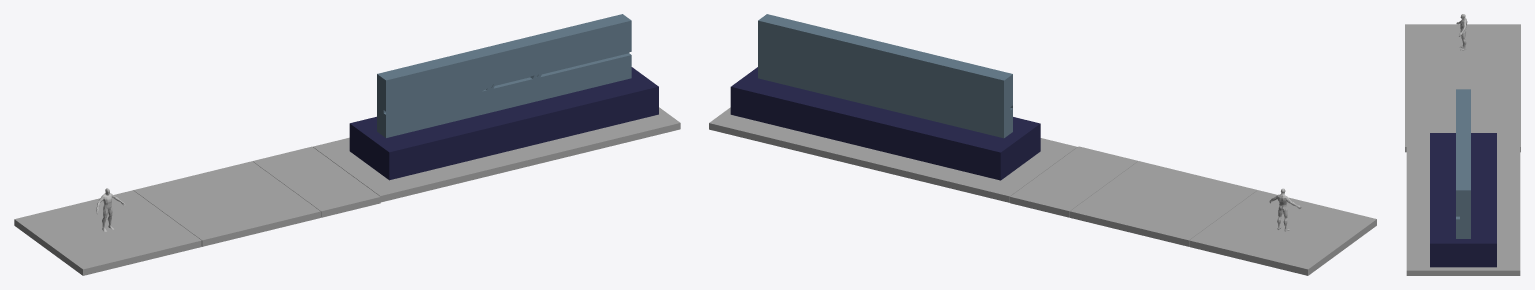
Rendered from CyberdyneSystemsSign.fbx.
3 renders of one model, left to right at view 1: azimuth 30°, elevation 25°; view 2: azimuth 150°, elevation 25°; view 3: azimuth 270°, elevation 25°, orthographic. The views are drawn at different scales.
Visible parts, largest first — view 1: polySurface5, pCube6, pCube7, pCube1, pCube4, pCube5, pCube3, pCube2, scale_ref; view 2: polySurface5, pCube6, pCube7, pCube1, pCube5, pCube4, pCube3, pCube2, scale_ref; view 3: pCube6, pCube7, pCube2, pCube1, pCube4, pCube3, polySurface5, pCube5, scale_ref.
Boxes of the visible parts, <box> form: polySurface5: <box>377,14,631,137</box>; pCube6: <box>349,67,658,180</box>; pCube7: <box>313,107,680,202</box>; pCube1: <box>14,205,142,275</box>; pCube4: <box>133,175,261,246</box>; pCube5: <box>252,146,380,217</box>; pCube3: <box>193,161,320,232</box>; pCube2: <box>74,190,201,261</box>; scale_ref: <box>96,188,125,231</box>; polySurface5: <box>758,14,1012,138</box>; pCube6: <box>730,67,1040,180</box>; pCube7: <box>709,107,1077,202</box>; pCube1: <box>1248,204,1376,275</box>; pCube5: <box>1010,146,1137,217</box>; pCube4: <box>1129,175,1257,246</box>; pCube3: <box>1070,161,1197,232</box>; pCube2: <box>1189,190,1316,261</box>; scale_ref: <box>1269,188,1301,231</box>; pCube6: <box>1430,133,1496,267</box>; pCube7: <box>1406,147,1520,275</box>; pCube2: <box>1405,48,1520,73</box>; pCube1: <box>1405,24,1520,48</box>; pCube4: <box>1405,73,1520,97</box>; pCube3: <box>1405,97,1520,122</box>; polySurface5: <box>1456,89,1470,238</box>; pCube5: <box>1405,122,1520,152</box>; scale_ref: <box>1456,14,1467,50</box>.
Bounding box in the file's own units: 89.76 × 13.21 × 17.85.
